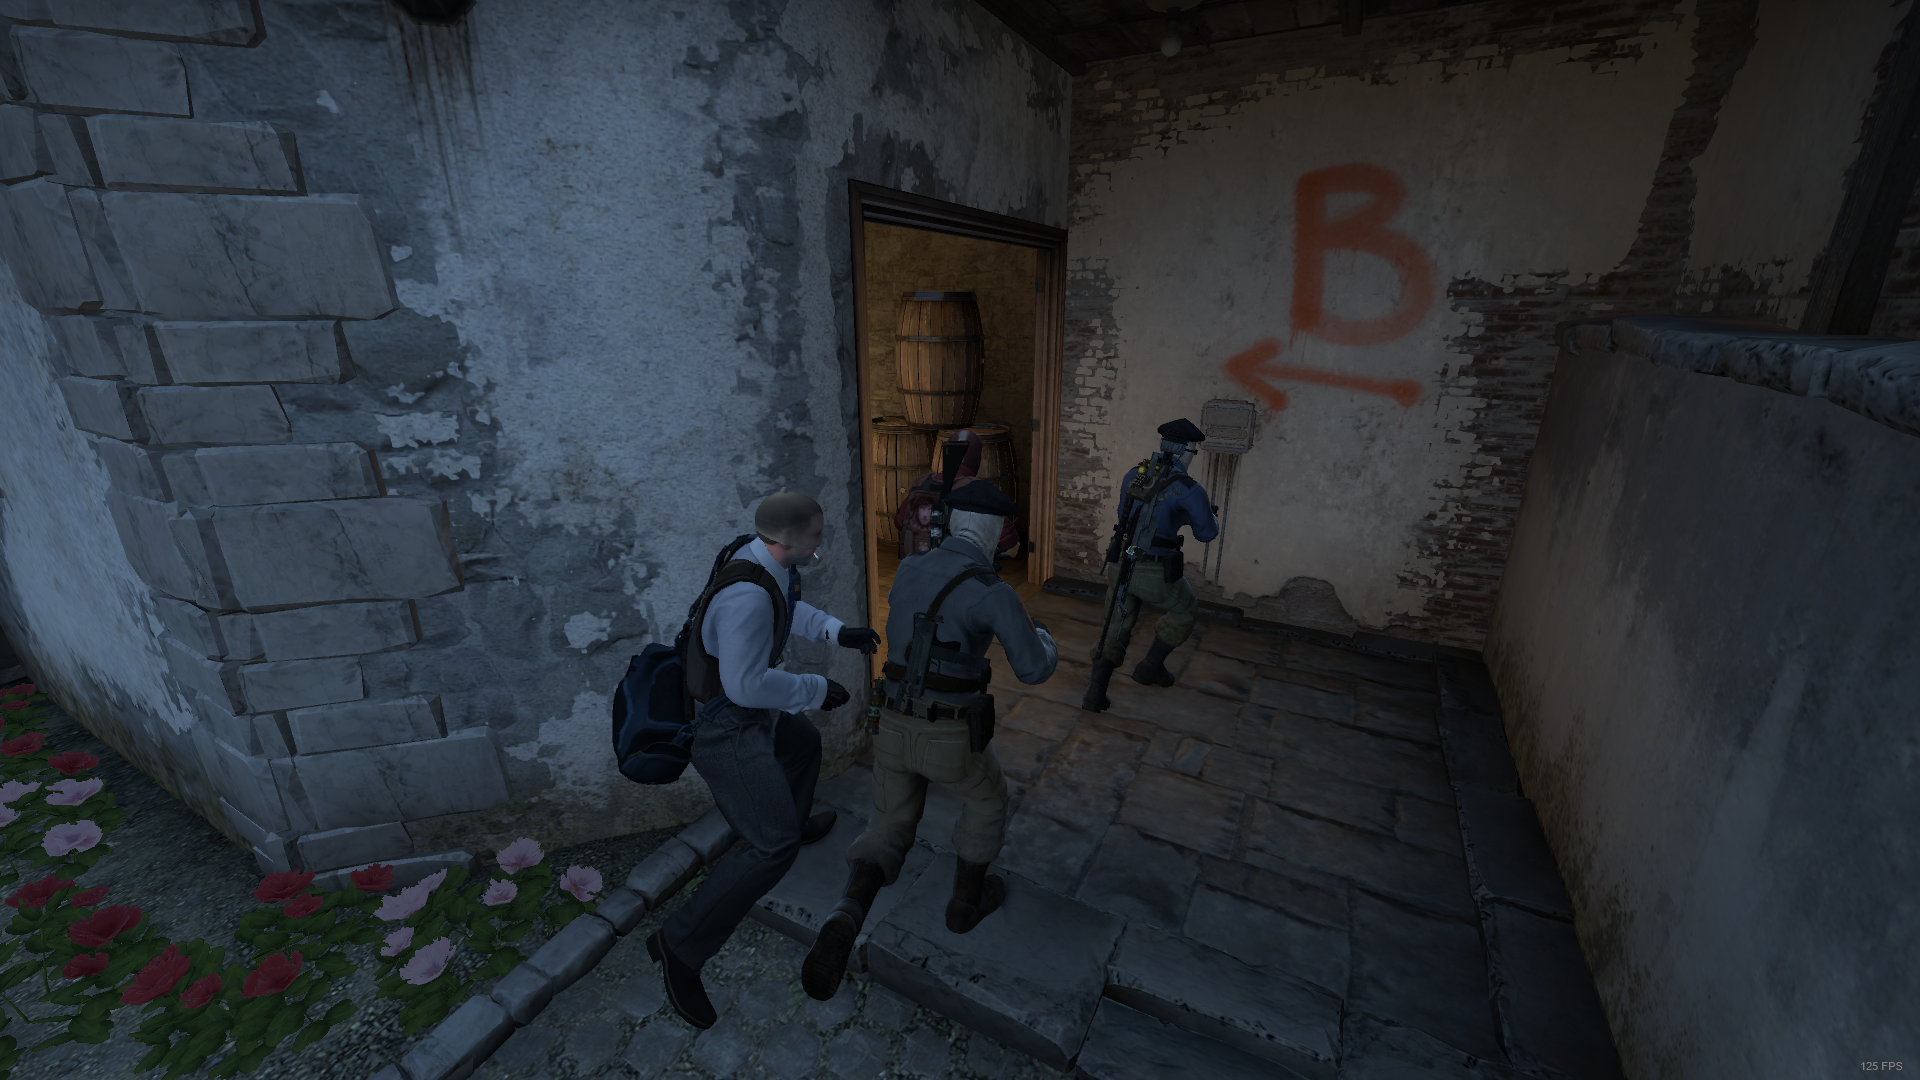t: (815, 485, 1055, 1015), (1087, 415, 1222, 725)
